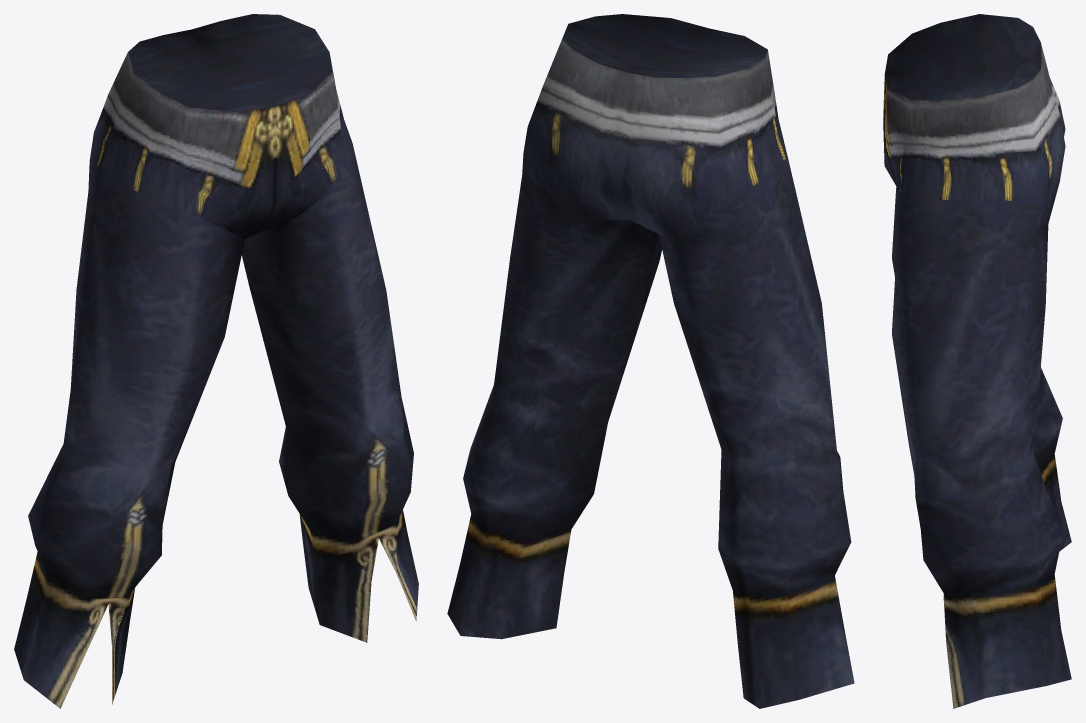
File: clothes_02_la.glb
3 views of the same model, side by side, from view 1: azimuth 30°, elevation 25°; view 2: azimuth 150°, elevation 25°; view 3: azimuth 270°, elevation 25° (orthographic). The views are drawn at different scales.
Parts seen in each view (by area): view 1: clothes_02_la; view 2: clothes_02_la; view 3: clothes_02_la.
Part boxes in pixels (x1,y1,x2,y2): clothes_02_la: (14,14,418,708); clothes_02_la: (447,14,854,708); clothes_02_la: (883,14,1071,708).
Size of the model in its own units: 0.6135 by 0.9118 by 0.2684.
Materials: 1 (1 with a texture image).
